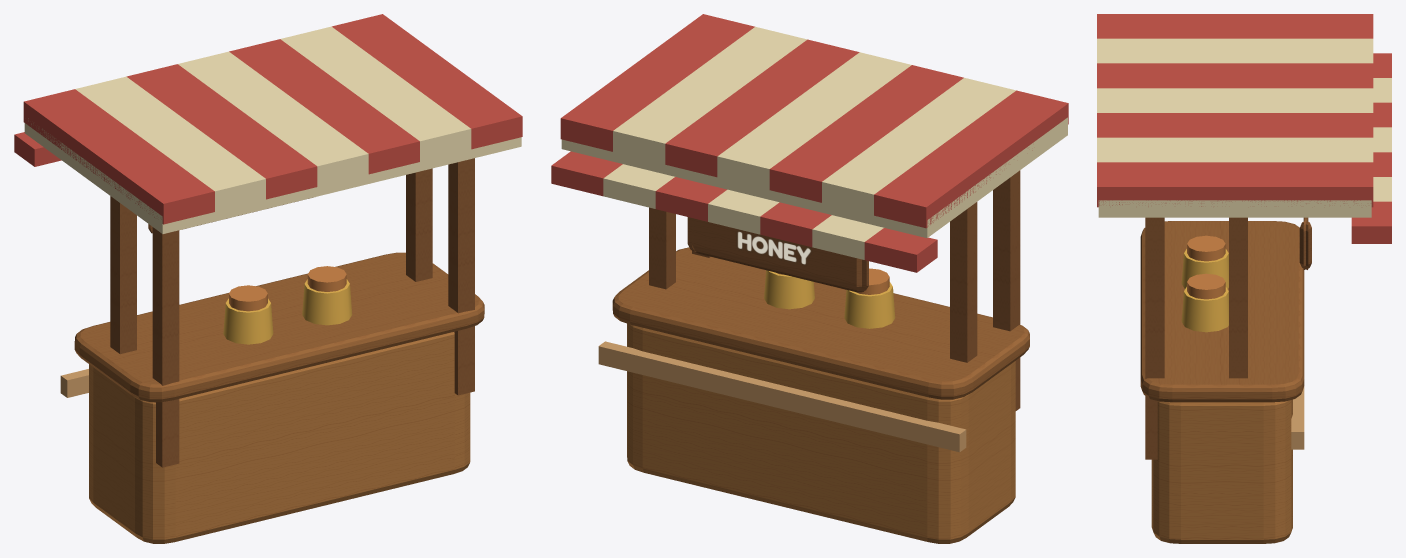
The model's file is market-stall.glb.
3 views of the same model, side by side, from view 1: azimuth 30°, elevation 25°; view 2: azimuth 150°, elevation 25°; view 3: azimuth 270°, elevation 25° (orthographic). The views are drawn at different scales.
Size of the model in its own units: 2.55 by 2.52 by 1.84.
Materials: 9 (4 with a texture image).
